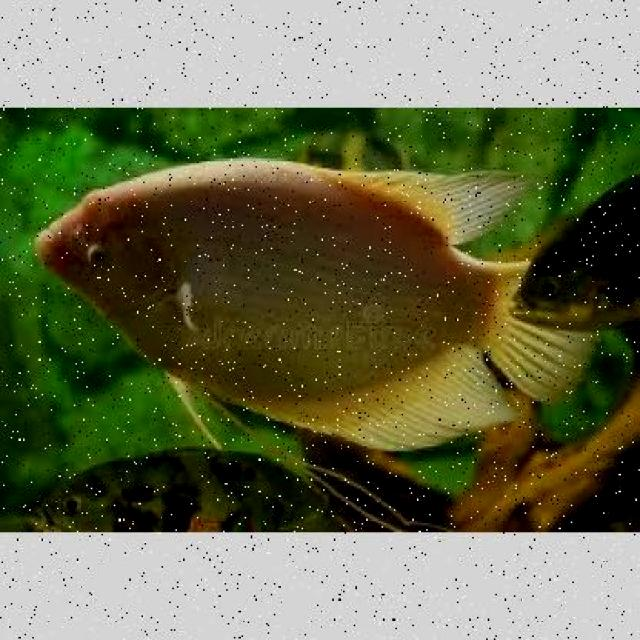gurame: (39, 157, 508, 440)
